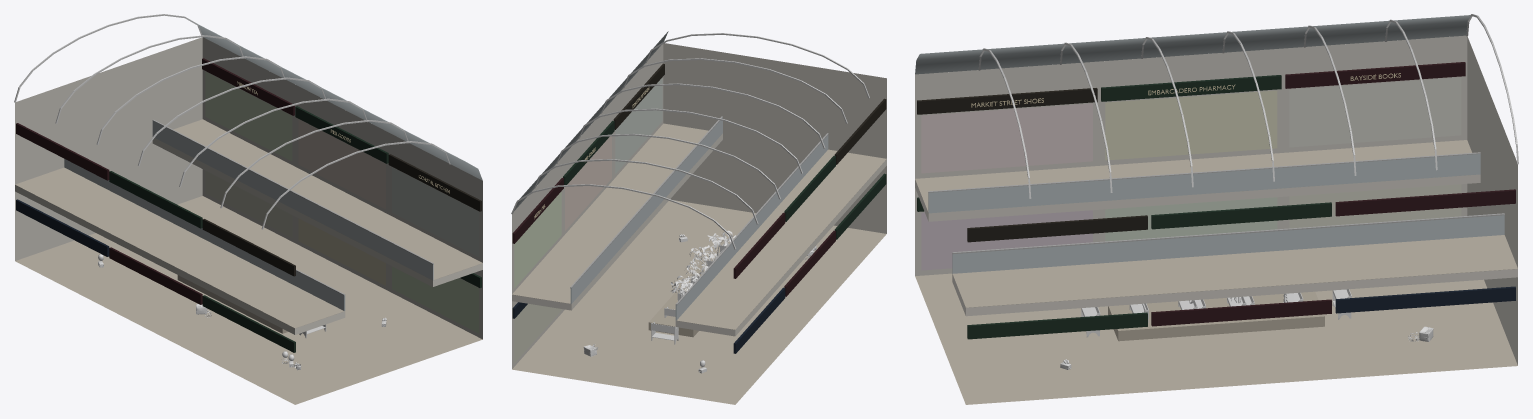
The model's file is embCenter_int.glb.
3 views of the same model, side by side, from view 1: azimuth 30°, elevation 25°; view 2: azimuth 150°, elevation 25°; view 3: azimuth 270°, elevation 25° (orthographic). The views are drawn at different scales.
Parts seen in each view (by area): view 1: I_x_travertine, I_x_plaster, I_screen, I_paint, I_glassI, I_metal; view 2: I_x_travertine, I_x_plaster, I_screen, I_paint, I_glassI, I_metal, I_p_painted_wooden_bench__0; view 3: I_x_travertine, I_screen, I_x_plaster, I_glassI, I_paint, I_metal, I_p_painted_wooden_bench__0, I_d_x_gold.
Boxes of the visible parts, <box> form: I_x_travertine: <box>15,119,482,404</box>; I_x_plaster: <box>15,37,482,339</box>; I_screen: <box>205,71,479,333</box>; I_paint: <box>16,58,481,352</box>; I_glassI: <box>64,19,482,310</box>; I_metal: <box>14,14,450,295</box>; I_x_travertine: <box>512,123,886,404</box>; I_x_plaster: <box>512,43,886,368</box>; I_screen: <box>514,77,662,362</box>; I_paint: <box>512,63,886,353</box>; I_glassI: <box>514,31,828,320</box>; I_metal: <box>511,33,869,304</box>; I_p_painted_wooden_bench__0: <box>651,244,726,344</box>; I_x_travertine: <box>915,140,1517,404</box>; I_screen: <box>921,77,1461,270</box>; I_x_plaster: <box>915,35,1517,364</box>; I_glassI: <box>915,15,1504,273</box>; I_paint: <box>917,62,1515,339</box>; I_metal: <box>928,14,1518,254</box>; I_p_painted_wooden_bench__0: <box>1081,289,1351,337</box>; I_d_x_gold: <box>971,73,1400,107</box>.
Bounding box in the file's own units: 19.31 × 13.85 × 29.31.
